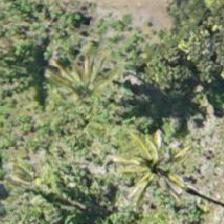coconut_tree: (38, 45, 128, 135), (110, 125, 200, 215)
